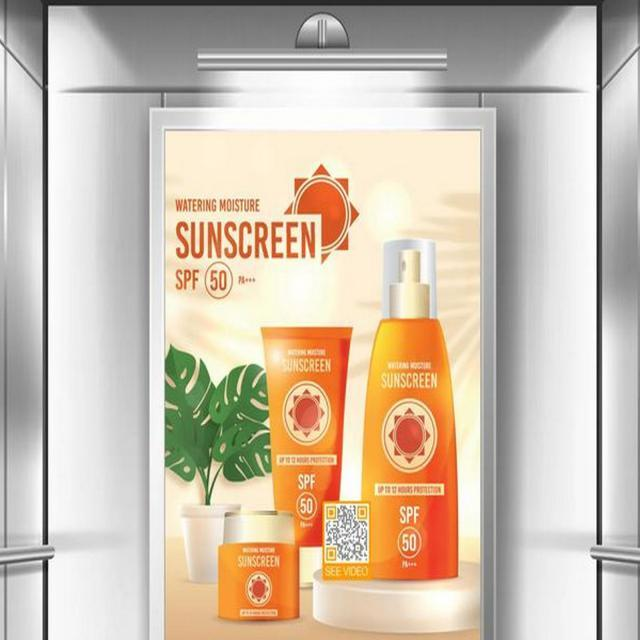qr_code: (326, 504, 367, 561)
